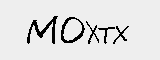М: (25, 13, 57, 46)
О: (60, 15, 85, 45)
Т: (95, 25, 114, 46)
Х: (112, 25, 132, 45), (85, 23, 100, 46)
